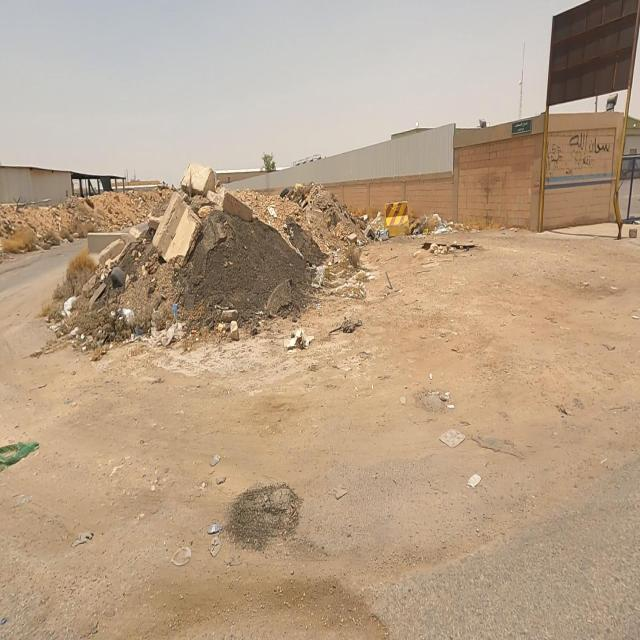Graffiti: (547, 130, 612, 178)
